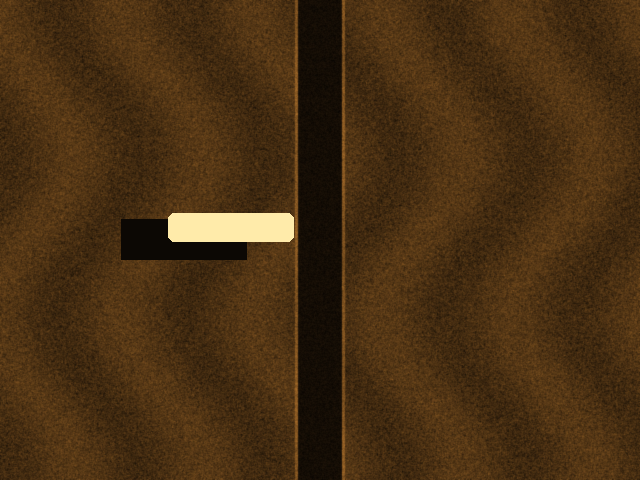Wood Debris: (168, 213, 293, 241)
